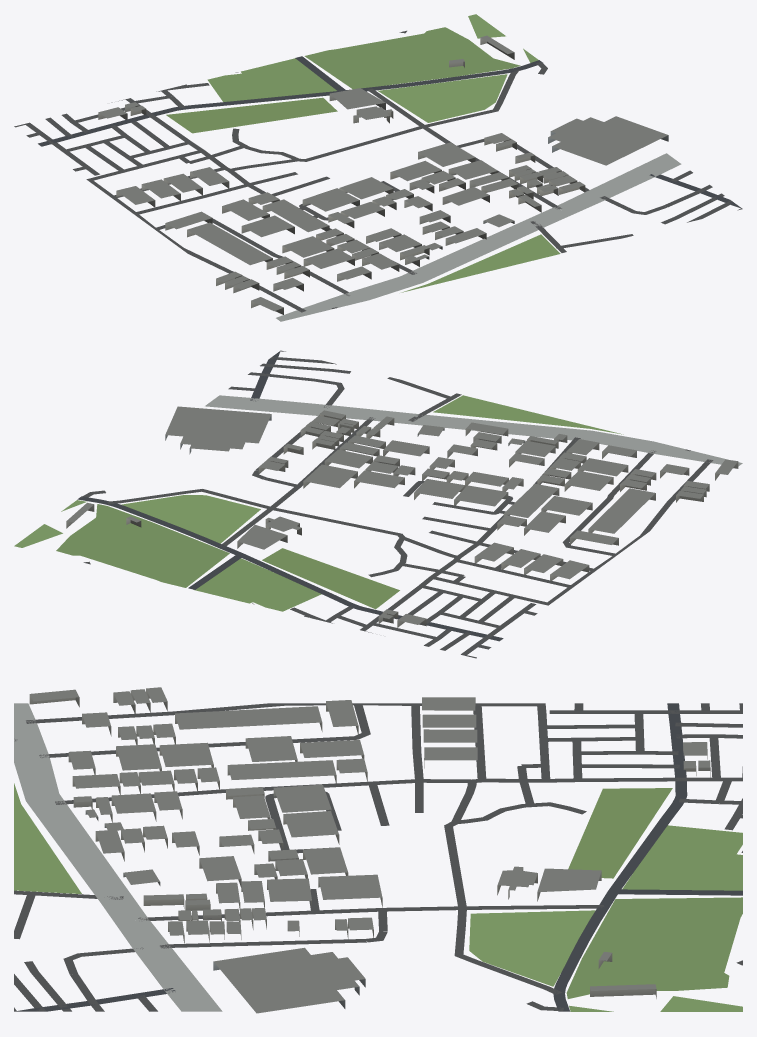
3 views of the same model, one above another, from view 1: azimuth 30°, elevation 25°; view 2: azimuth 150°, elevation 25°; view 3: azimuth 270°, elevation 25° (orthographic). The views are drawn at different scales.
Parts seen in each view (by area): view 1: ground, building; view 2: ground, building; view 3: ground, building.
Part boxes in pixels (x1=…): ground: x1=14, y1=14, x2=742, y2=321; building: x1=98, y1=35, x2=668, y2=314; ground: x1=14, y1=350, x2=742, y2=658; building: x1=66, y1=406, x2=738, y2=627; ground: x1=14, y1=703, x2=742, y2=1011; building: x1=29, y1=687, x2=710, y2=1013.
Size of the model in its own units: 527 by 8 by 500.
